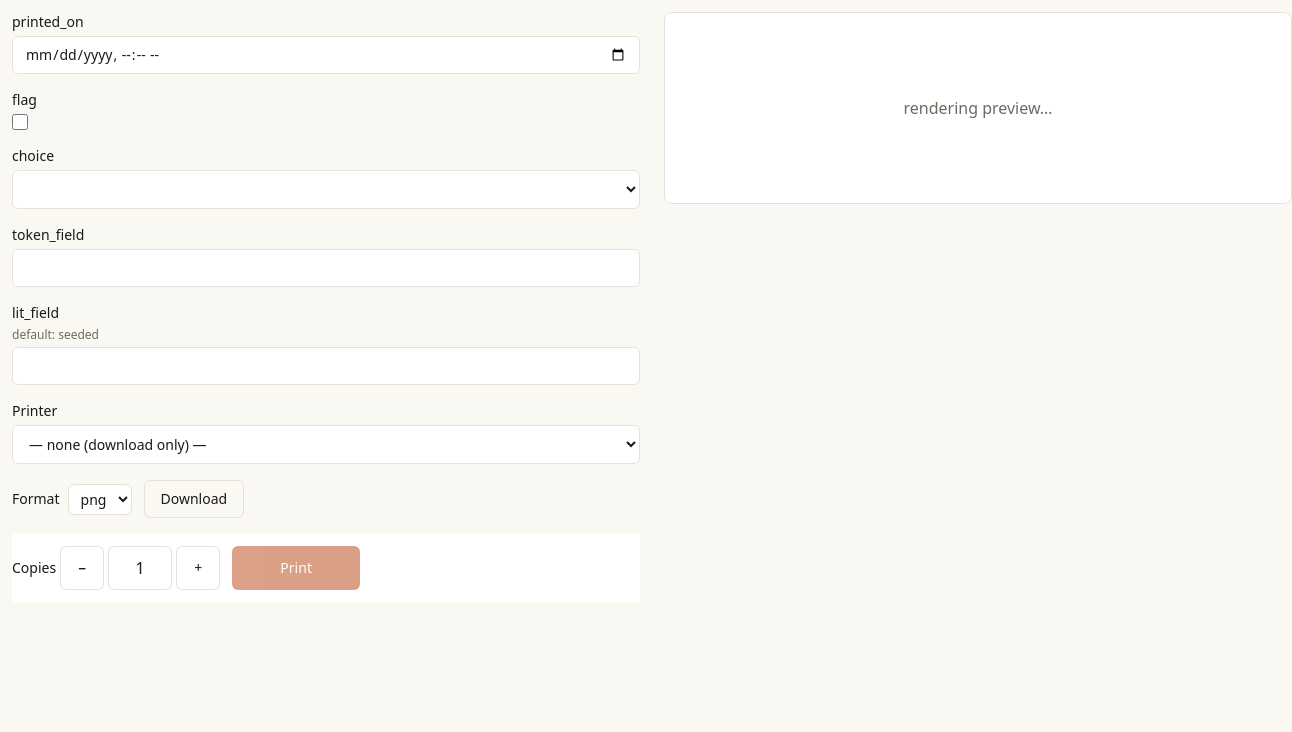
Scenario: PrintForm gating and submission pruning › leaves undefaulted datetime, boolean, and enum empty on mount, and gates only on a printer
Expected: the field named "printed_on" is empty, [12, 36, 640, 74]
Expected: the checkbox named "flag" is not checked, [12, 114, 28, 130]
Select "Label Printer" in the dropdown labelled "Printer": x=326, y=444 [12, 425, 640, 464]
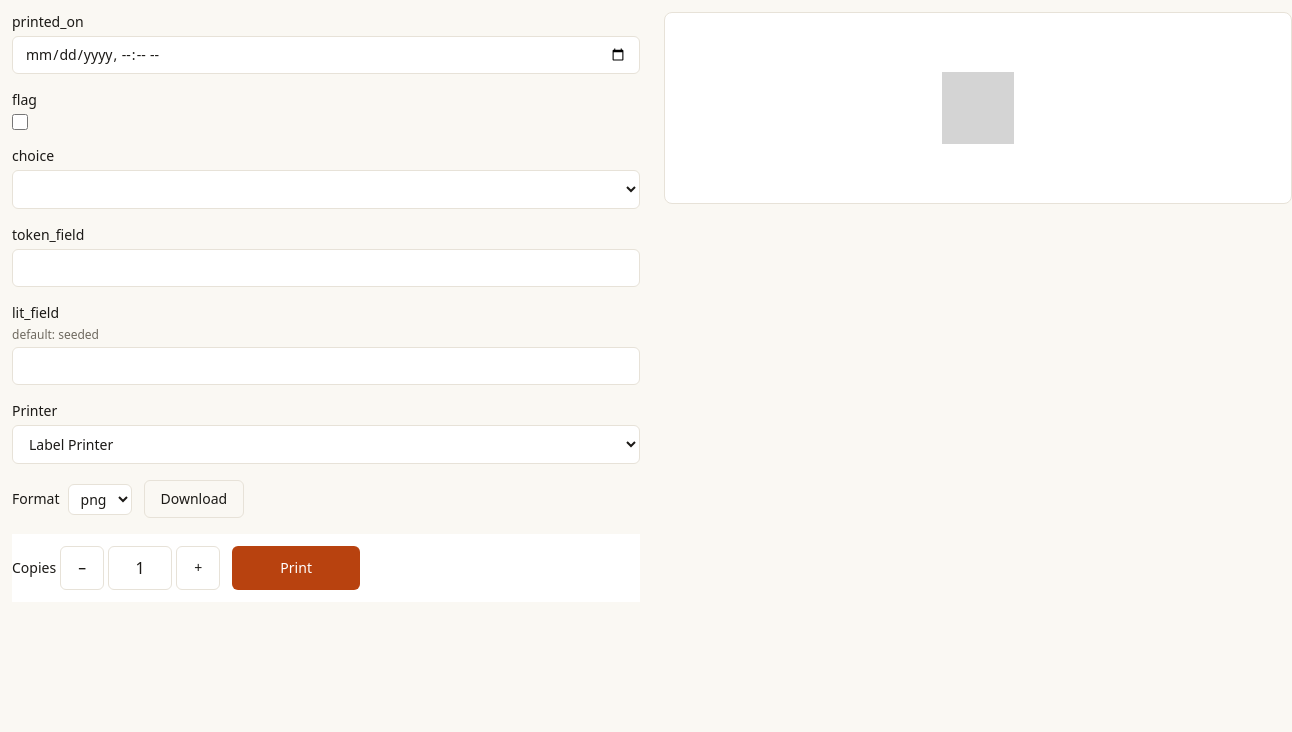
Result: the button "Print" is enabled at [232, 546, 360, 590]
